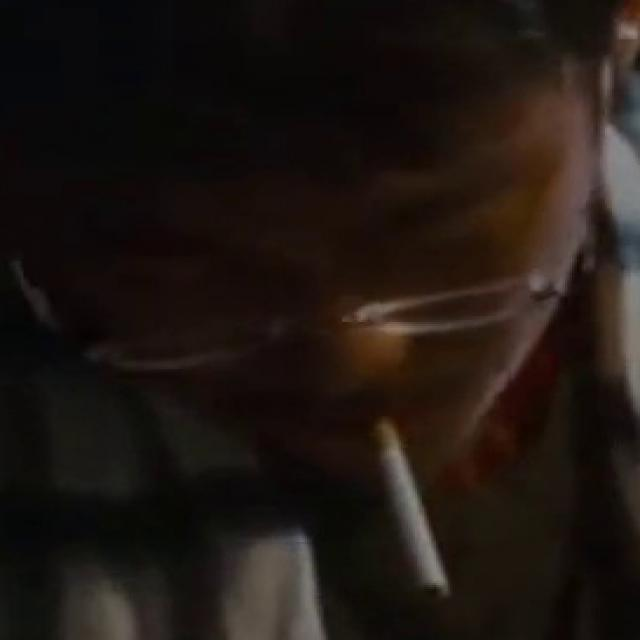smoking: (366, 416, 454, 601)
